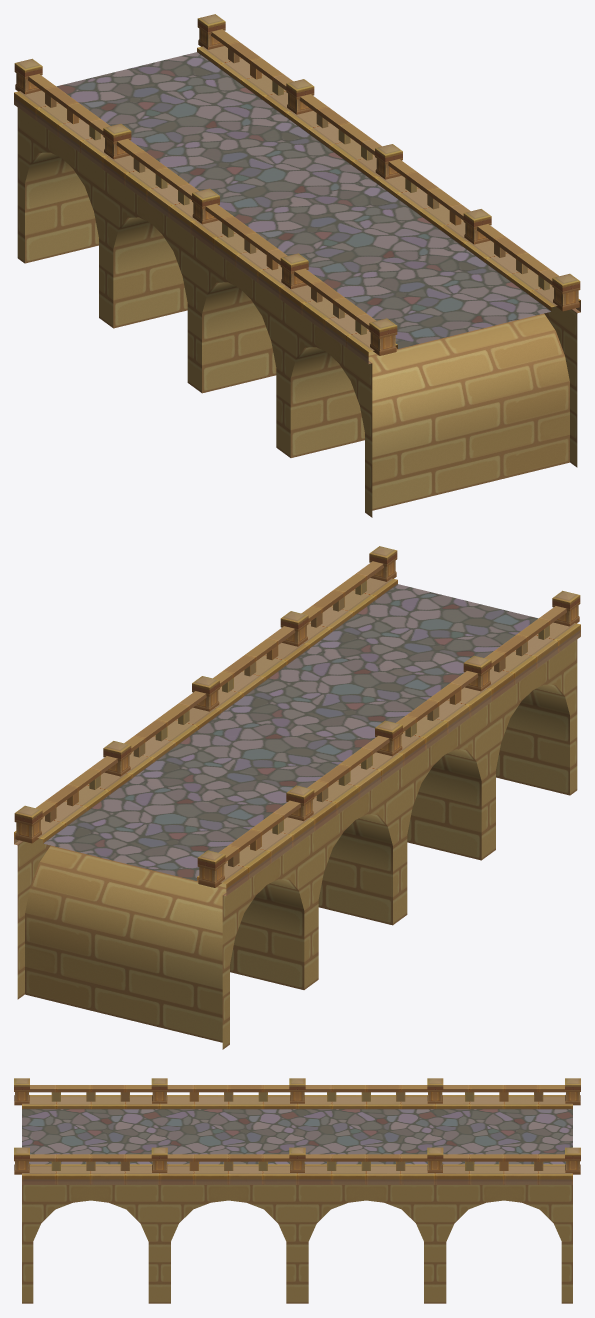
Rendered from Bridge01_d01.FBX.
3 views of the same model, one above another, from view 1: azimuth 30°, elevation 25°; view 2: azimuth 150°, elevation 25°; view 3: azimuth 270°, elevation 25° (orthographic). The views are drawn at different scales.
Parts seen in each view (by area): view 1: Bridge01_d01; view 2: Bridge01_d01; view 3: Bridge01_d01.
Part boxes in pixels (box(x1,y1,x2,y2)): Bridge01_d01: box(14, 14, 580, 517); Bridge01_d01: box(14, 546, 580, 1049); Bridge01_d01: box(14, 1078, 580, 1303).
Bounding box in the file's own units: 985 × 860 × 2933.
